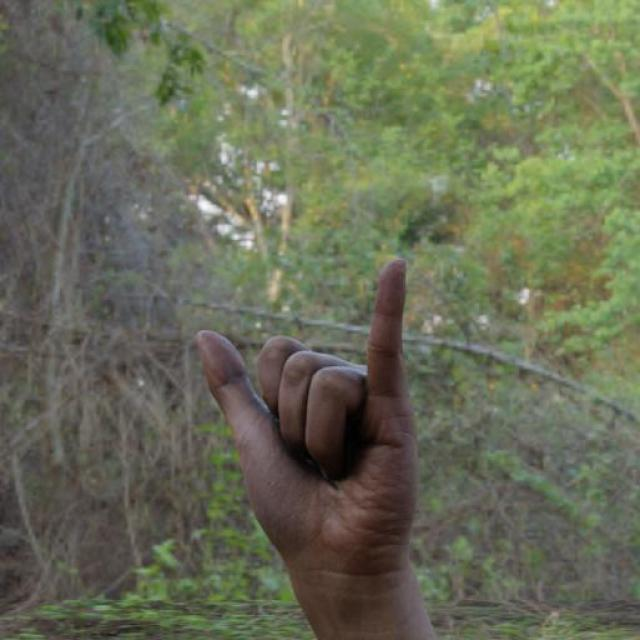Y: (180, 241, 439, 577)
